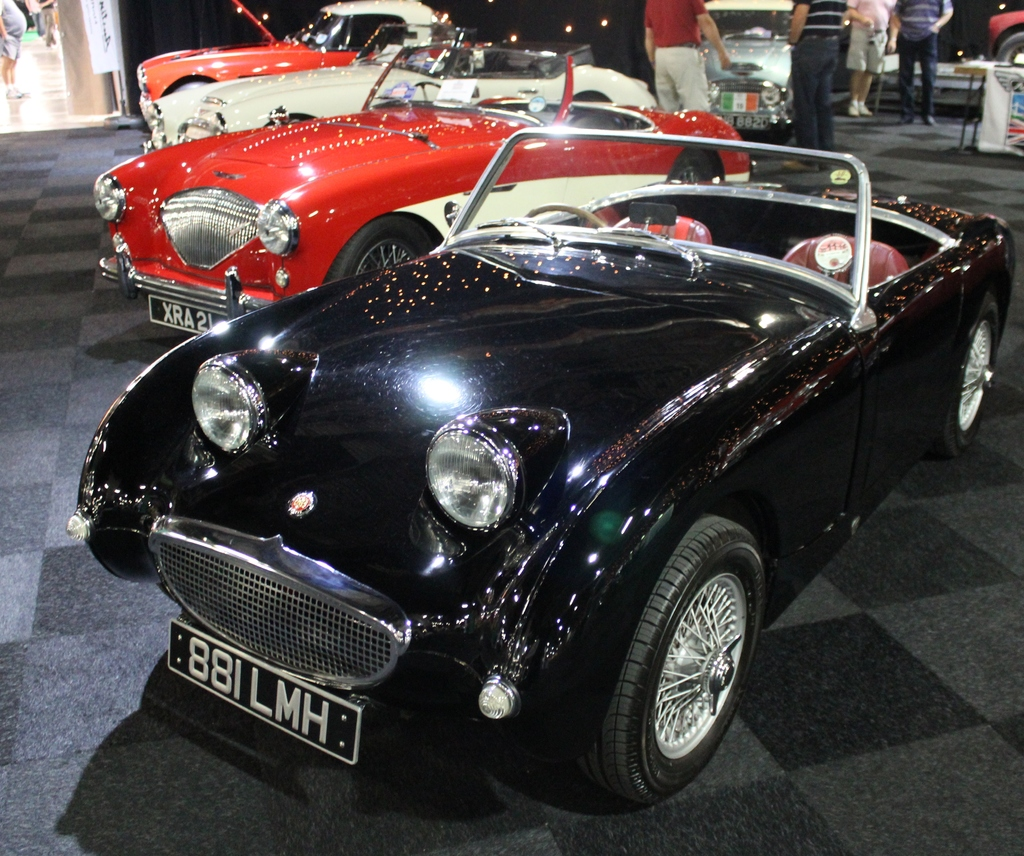Person: (644, 0, 954, 174), (0, 0, 24, 98), (23, 0, 41, 34), (41, 0, 54, 45)
